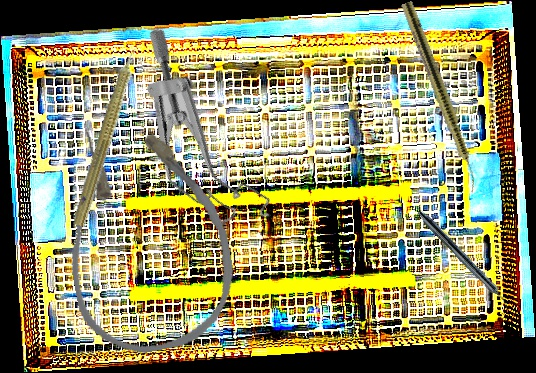Cannula: (46, 109, 246, 364)
Handpiece: (398, 0, 485, 194), (69, 36, 149, 230), (413, 208, 515, 312)
Speculum: (81, 23, 322, 249)
